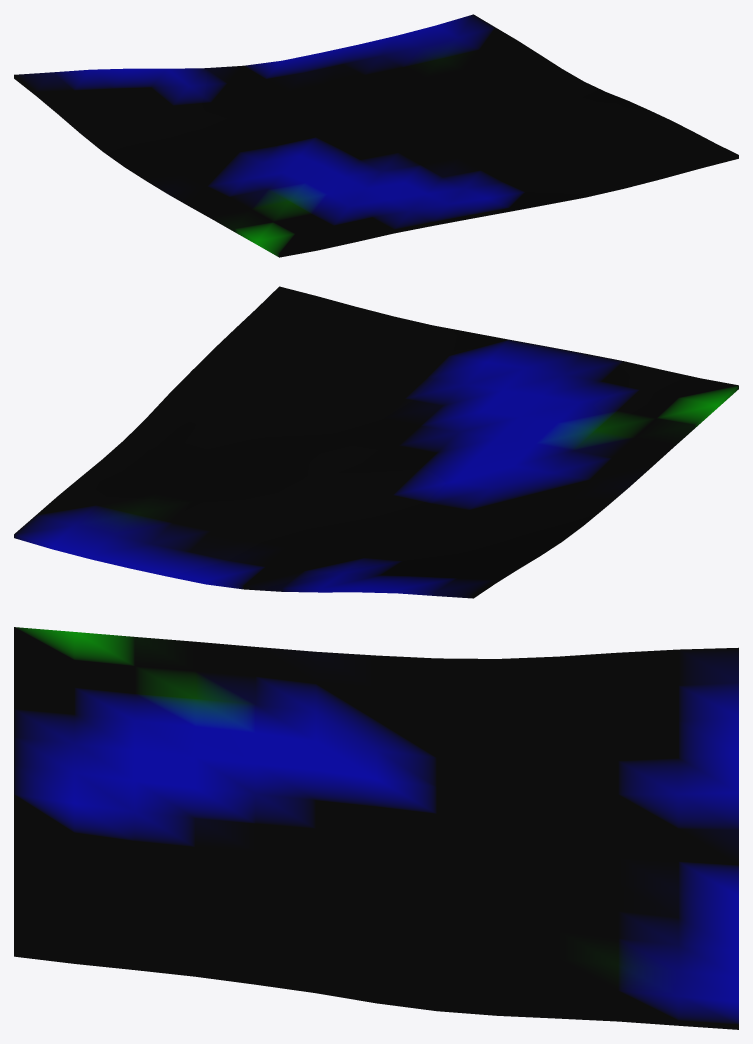
The model's file is coast_7_0.glb.
The picture shows the model from 3 angles, top to bottom: view 1: azimuth 30°, elevation 25°; view 2: azimuth 150°, elevation 25°; view 3: azimuth 270°, elevation 25°; orthographic projection. The views are drawn at different scales.
Parts seen in each view (by area): view 1: terrain; view 2: terrain; view 3: terrain.
Boxes of the visible parts, box(x1,y1,x2,y2) form: terrain: box(14, 14, 738, 257); terrain: box(14, 286, 738, 598); terrain: box(14, 627, 738, 1029).
Size of the model in its own units: 192 by 29.23 by 192.
